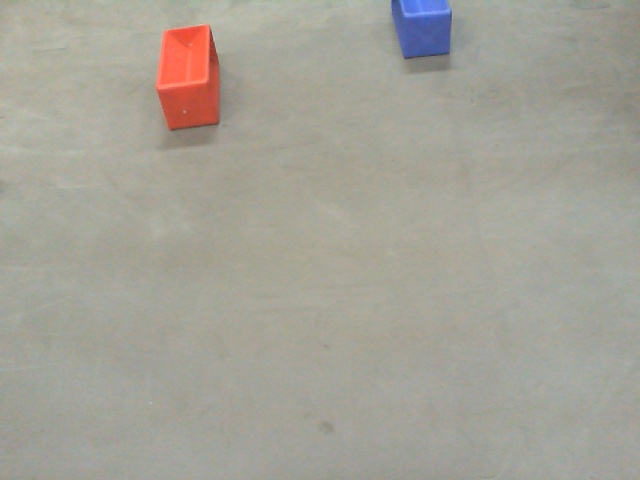BlueSample: (389, 1, 452, 60)
RedSample: (156, 23, 223, 131)
